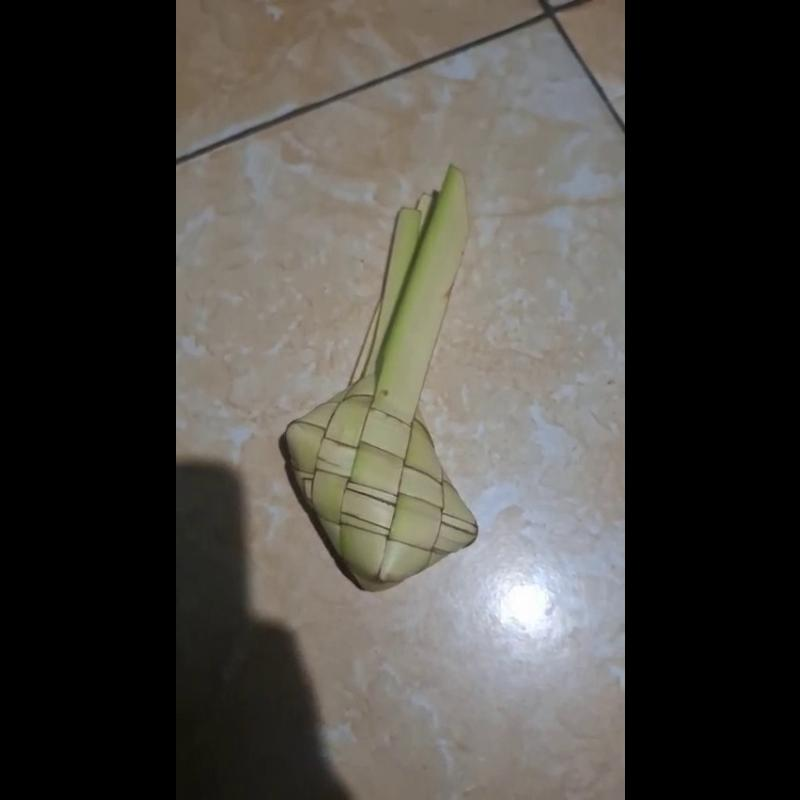Tipat Bantal: (276, 159, 485, 601)
